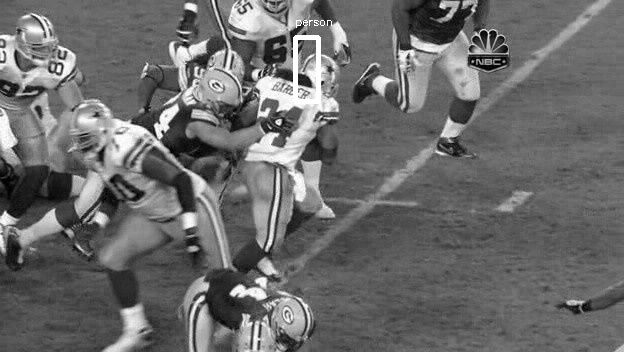person: (308, 52, 343, 96), (307, 52, 342, 96), (309, 52, 344, 96), (308, 51, 343, 95), (308, 53, 343, 97)
target_negative: (290, 303, 595, 331), (453, 77, 486, 235), (281, 237, 539, 253), (229, 246, 470, 263), (283, 5, 465, 21), (86, 243, 88, 344)
